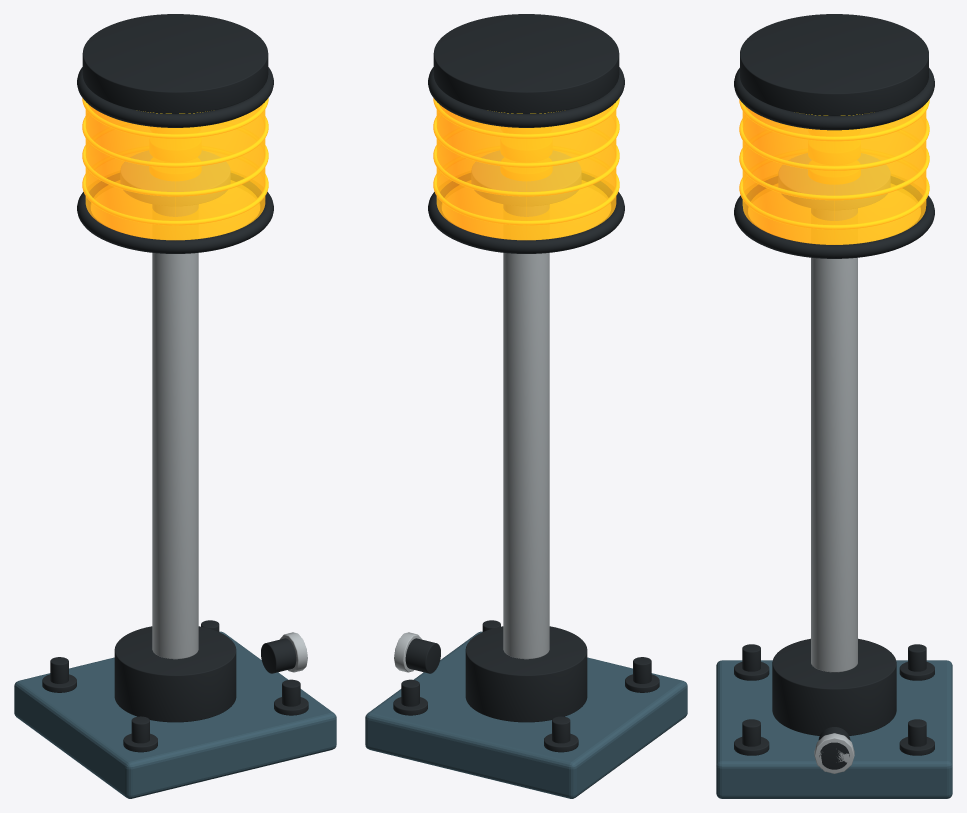
Rendered from traffic_signal_head.glb.
3 views of the same model, side by side, from view 1: azimuth 30°, elevation 25°; view 2: azimuth 150°, elevation 25°; view 3: azimuth 270°, elevation 25° (orthographic). The views are drawn at different scales.
Parts seen in each view (by area): view 1: BASE_foot, POLE, LENS_single, CAP, BASE_plinth, BEZEL_lower, BEZEL_upper, LENS_reflector, LENS_fresnel_rib_0, LENS_fresnel_rib_1, LENS_fresnel_rib_2, LENS_fresnel_rib_3 (+3 smaller); view 2: BASE_foot, POLE, LENS_single, CAP, BASE_plinth, BEZEL_lower, BEZEL_upper, LENS_reflector, LENS_fresnel_rib_0, LENS_fresnel_rib_1, LENS_fresnel_rib_2, LENS_fresnel_rib_3 (+3 smaller); view 3: BASE_foot, POLE, LENS_single, CAP, BASE_plinth, BEZEL_lower, BEZEL_upper, LENS_reflector, LENS_fresnel_rib_0, LENS_fresnel_rib_1, LENS_fresnel_rib_2, LENS_fresnel_rib_3 (+12 smaller).
Part boxes in pixels (<box>): BASE_foot: <box>14,631,336,798</box>; POLE: <box>152,205,198,659</box>; LENS_single: <box>85,103,265,240</box>; CAP: <box>82,14,268,113</box>; BASE_plinth: <box>114,626,236,722</box>; BEZEL_lower: <box>77,173,273,253</box>; BEZEL_upper: <box>77,67,273,127</box>; LENS_reflector: <box>121,151,229,205</box>; LENS_fresnel_rib_0: <box>82,147,268,225</box>; LENS_fresnel_rib_1: <box>82,123,268,196</box>; LENS_fresnel_rib_2: <box>82,109,268,167</box>; LENS_fresnel_rib_3: <box>82,98,268,138</box>; BASE_foot: <box>365,631,687,798</box>; POLE: <box>503,205,549,659</box>; LENS_single: <box>436,103,616,240</box>; CAP: <box>433,14,619,113</box>; BASE_plinth: <box>465,626,587,722</box>; BEZEL_lower: <box>428,173,624,253</box>; BEZEL_upper: <box>428,67,624,127</box>; LENS_reflector: <box>472,151,580,205</box>; LENS_fresnel_rib_0: <box>433,147,619,225</box>; LENS_fresnel_rib_1: <box>433,123,619,196</box>; LENS_fresnel_rib_2: <box>433,109,619,167</box>; LENS_fresnel_rib_3: <box>433,98,619,138</box>; BASE_foot: <box>716,660,952,798</box>; POLE: <box>811,209,857,672</box>; LENS_single: <box>742,105,926,244</box>; CAP: <box>740,14,928,115</box>; BASE_plinth: <box>772,638,896,735</box>; BEZEL_lower: <box>734,176,934,258</box>; BEZEL_upper: <box>734,68,934,130</box>; LENS_reflector: <box>779,153,889,209</box>; LENS_fresnel_rib_0: <box>739,150,929,229</box>; LENS_fresnel_rib_1: <box>739,125,929,200</box>; LENS_fresnel_rib_2: <box>739,112,929,170</box>; LENS_fresnel_rib_3: <box>739,99,929,141</box>.
Bounding box in the file's own units: 0.455 × 1.3 × 0.4.
